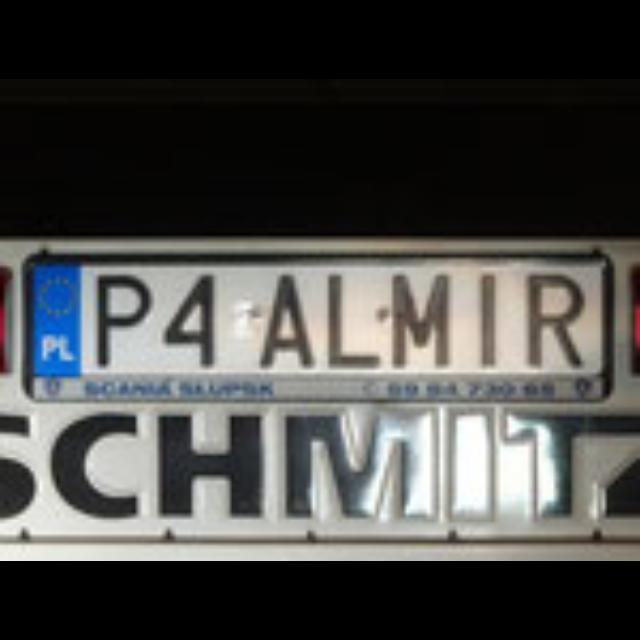license-plates: (25, 255, 612, 403)
